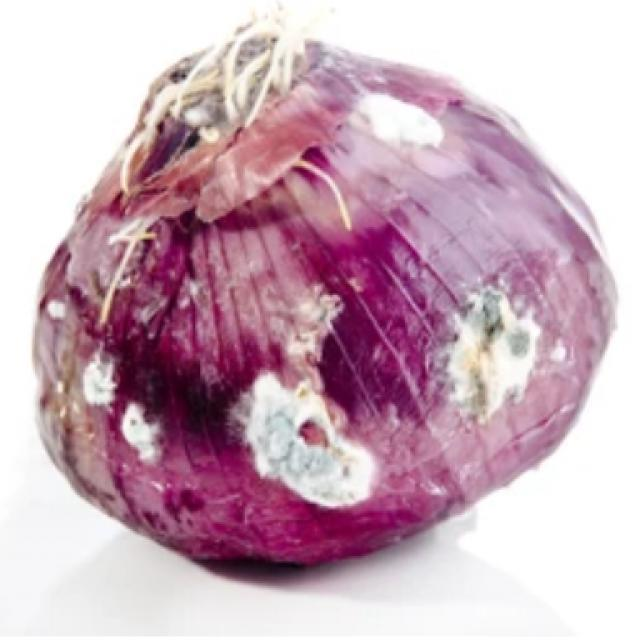rotten: (265, 356, 525, 497), (423, 264, 547, 422)
